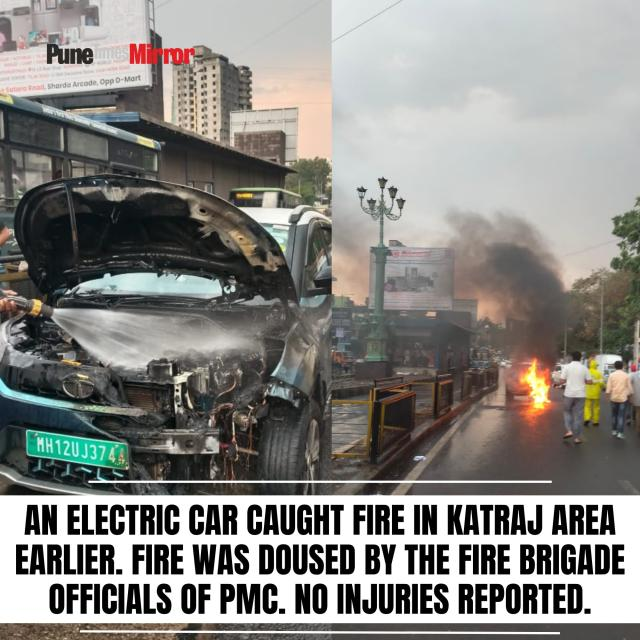accident: (0, 174, 331, 494)
